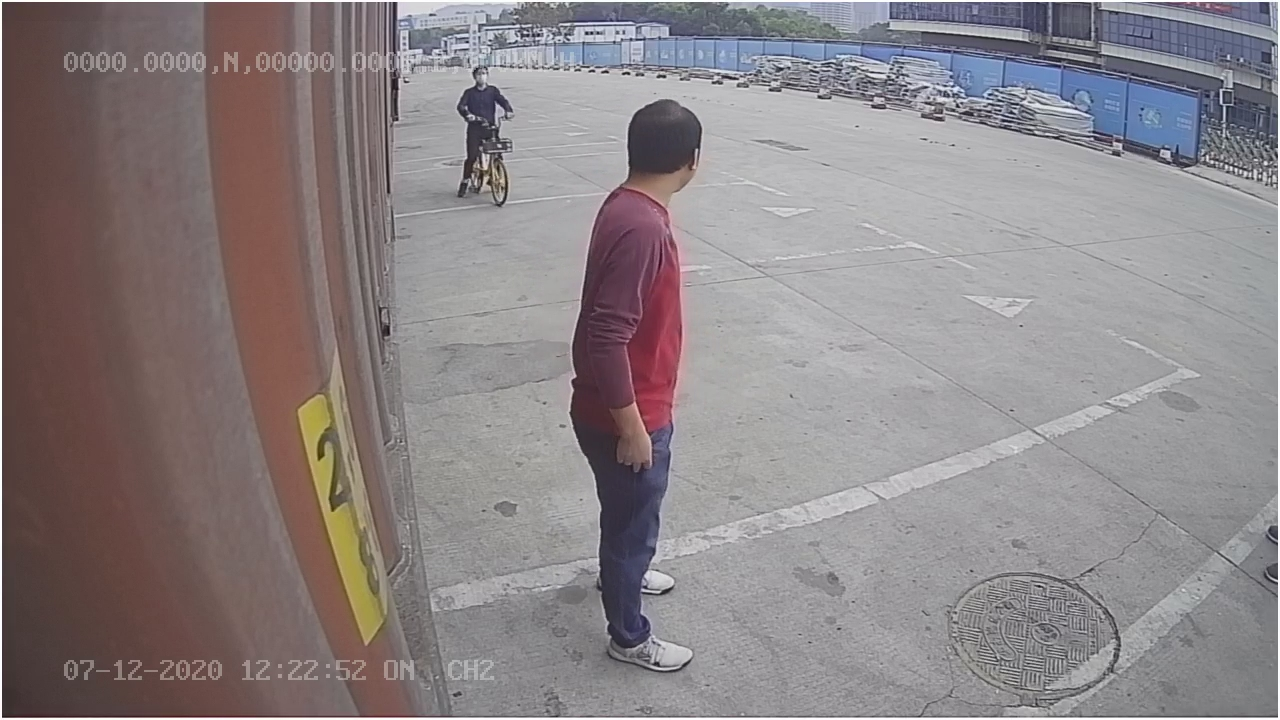person: (564, 91, 712, 675)
